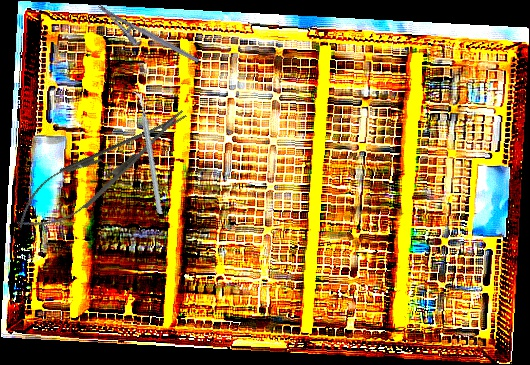Chopper: (105, 90, 190, 215)
Needle Holder: (5, 94, 199, 246), (90, 3, 200, 77)
